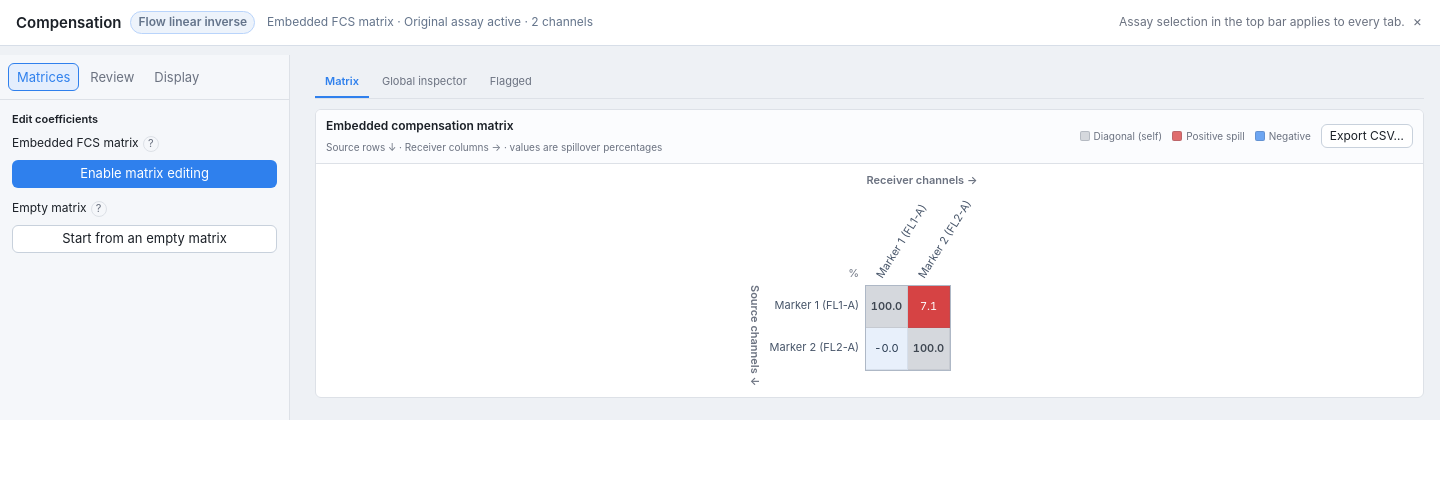
Scenario: CompensationTab common path › stores a matrix with single-precision noise, setting only those coefficients to 0 and 1, and says so
Click the button "Enable matrix editing" at (144, 174), box [12,160,277,188]
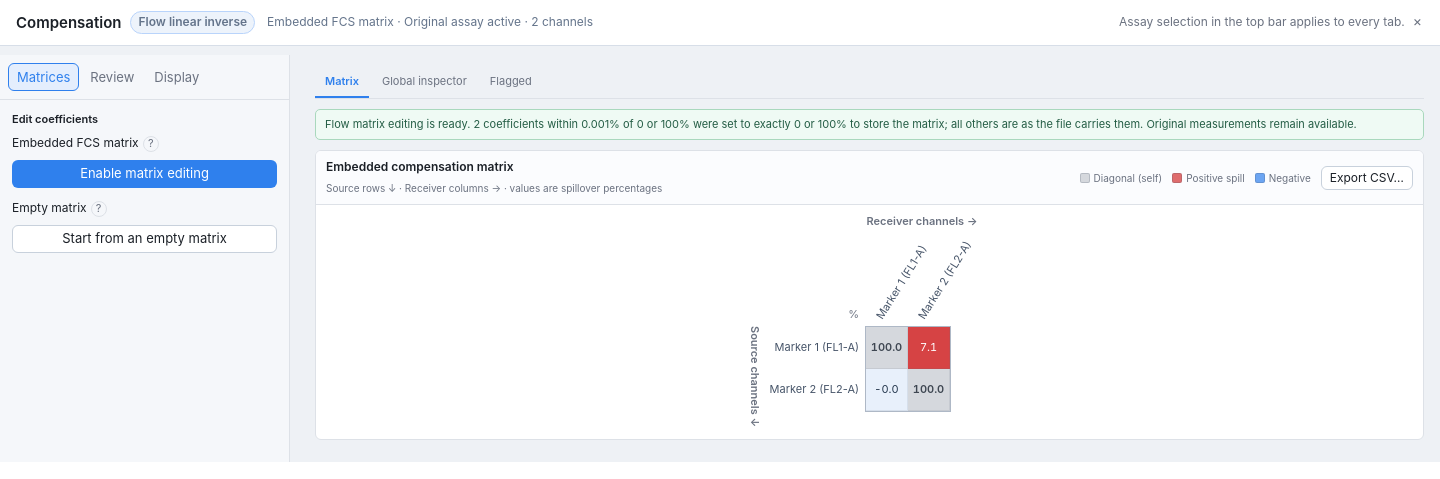
Now the text "2 coefficients within 0.001% of 0 or 100% were set to exactly 0 or 100% to store the matrix" is shown, box [325,117,1357,131]
